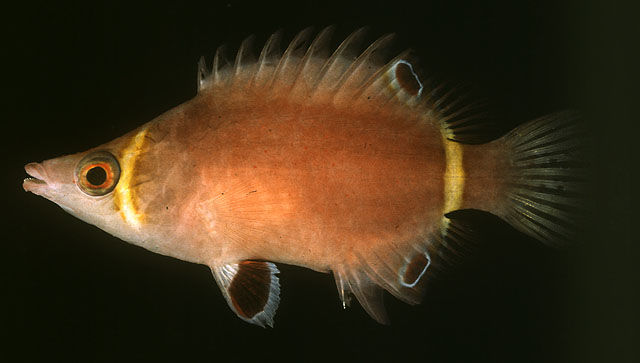fish: (22, 28, 580, 329)
